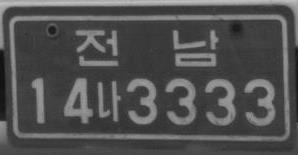1: (27, 76, 51, 124)
3: (164, 76, 198, 127), (204, 76, 237, 128), (243, 77, 277, 127), (126, 76, 158, 126)
4: (62, 75, 94, 125)
나: (95, 79, 122, 123)
전남_D: (74, 28, 219, 68)
